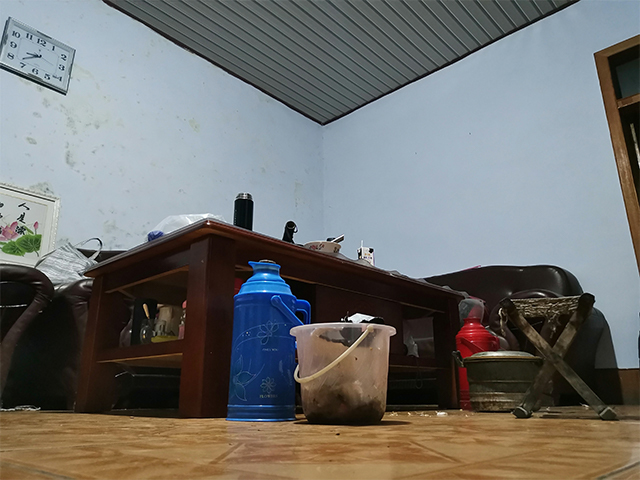stool: (496, 292, 622, 423)
table: (73, 214, 471, 418)
trashcan: (288, 319, 398, 426)
